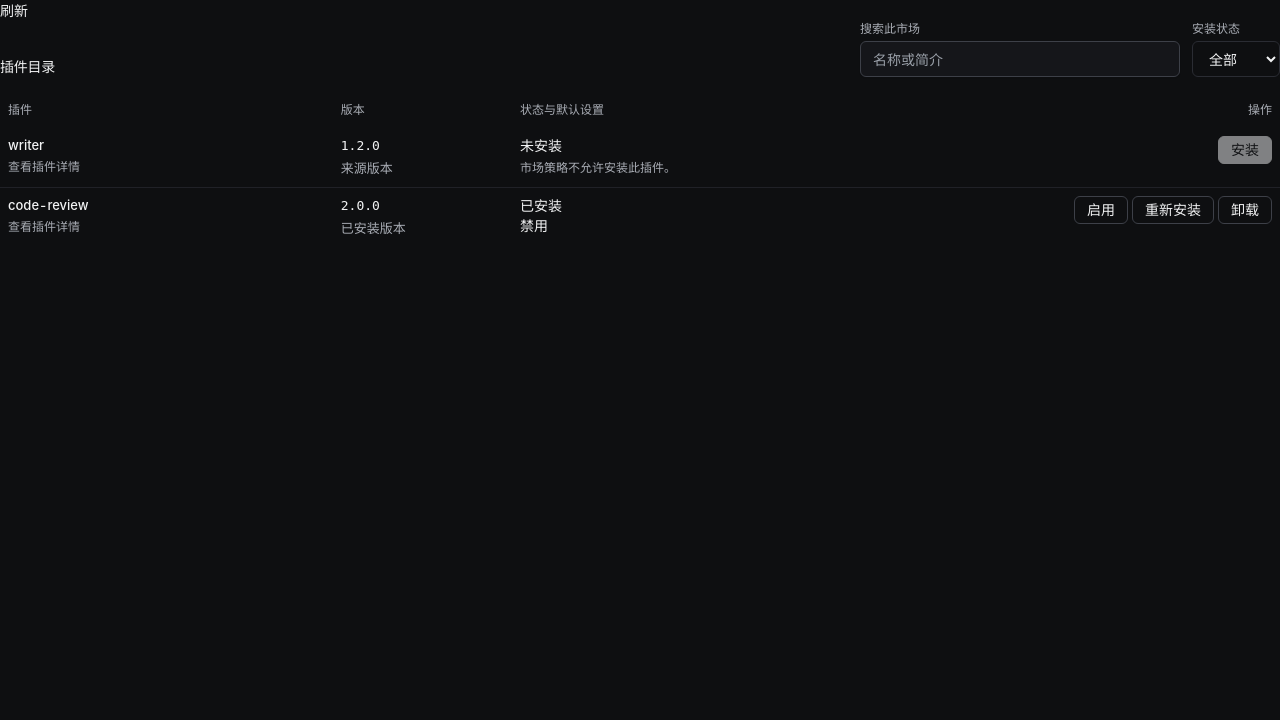
Scenario: Codex plugin management › blocks NOT_AVAILABLE installation and keeps operation success visible after a failed reread
Expected: the button with aria-label "安装 writer（personal）" is disabled, [1218, 136, 1272, 164]
Step 1. Click the button with aria-label "重新安装 code-review（personal）" → (1173, 210), box [1132, 196, 1214, 224]
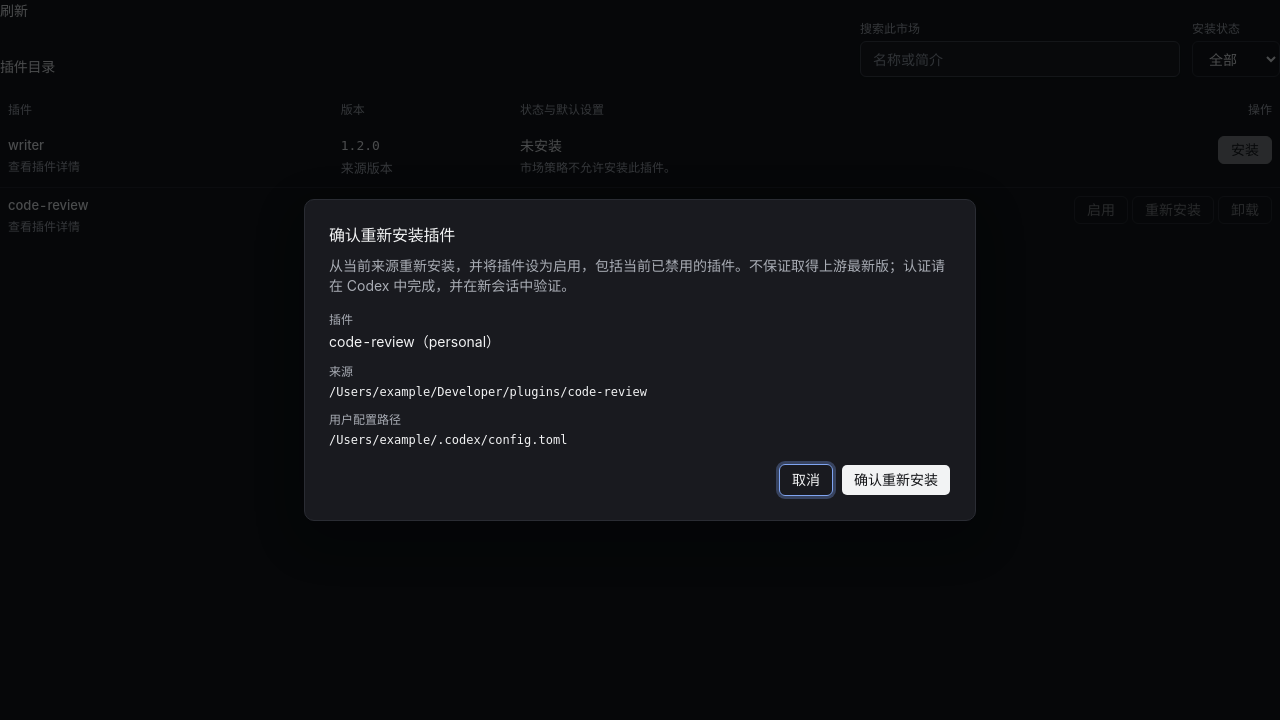
Step 2. Click the button "确认重新安装" → (896, 480), box [841, 464, 951, 496]
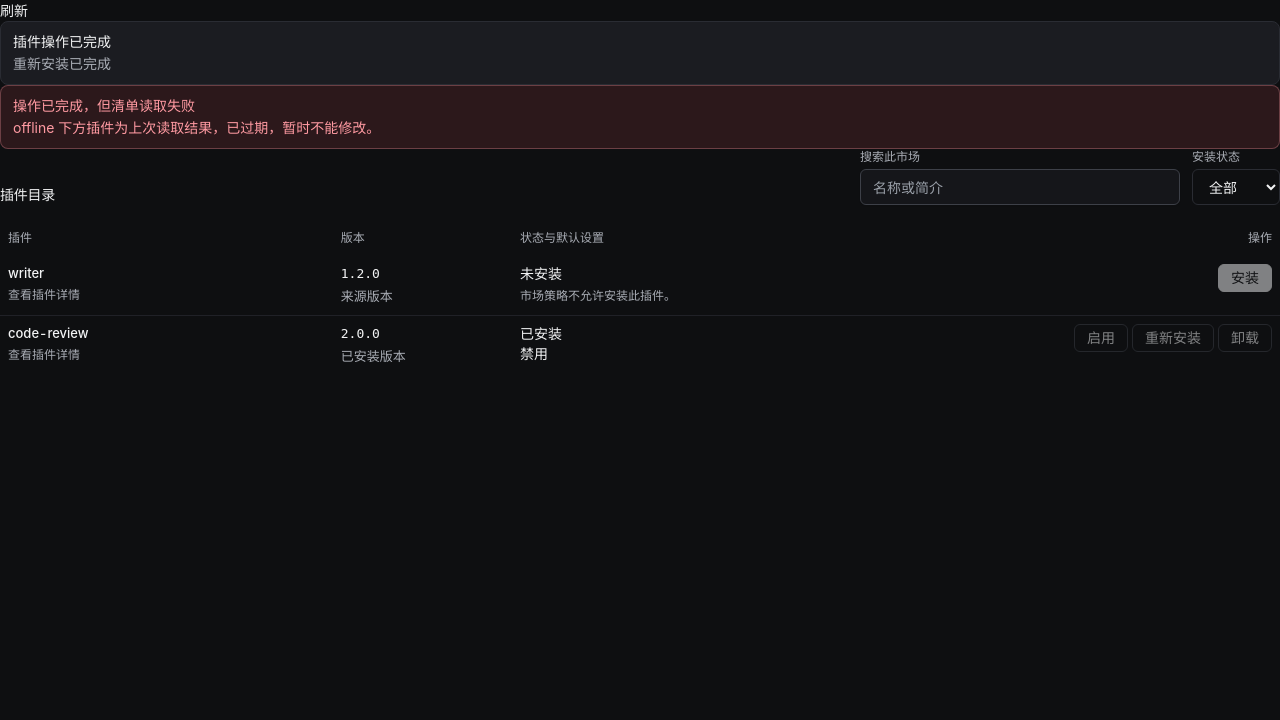
Result: the button with aria-label "卸载 code-review（personal）" is disabled at [1218, 324, 1272, 352]
Result: the text "操作已完成，但清单读取失败" is shown at [13, 97, 195, 114]
Result: the text "重新安装已完成" is shown at [13, 55, 111, 72]
